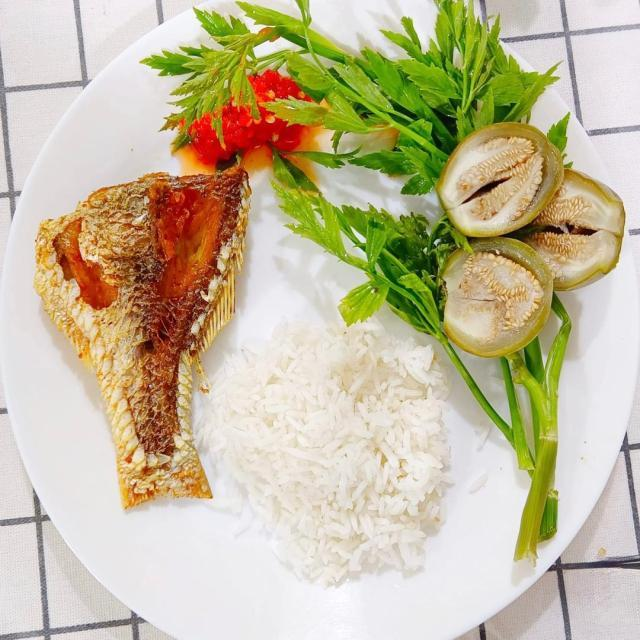Fish: (33, 170, 255, 510)
Plate: (568, 1, 639, 76)
Rice: (194, 327, 453, 590)
Vegetables: (144, 0, 626, 556)
